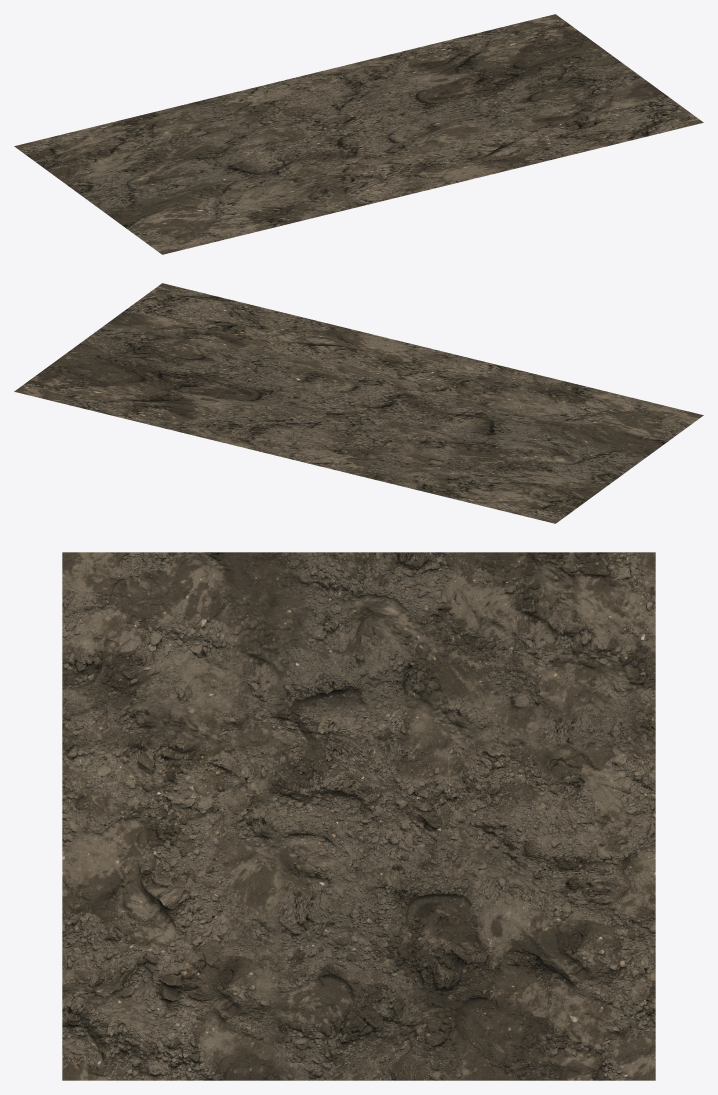
The model's file is Suelo_Zona3.glb.
3 renders of one model, top to bottom at view 1: azimuth 30°, elevation 25°; view 2: azimuth 150°, elevation 25°; view 3: azimuth 270°, elevation 25°, orthographic. The views are drawn at different scales.
Parts seen in each view (by area): view 1: Plano; view 2: Plano; view 3: Plano.
Boxes of the visible parts, box(x1,y1,x2,y2) form: Plano: box(14, 14, 703, 254); Plano: box(14, 283, 703, 523); Plano: box(62, 552, 655, 1080).
Bounding box in the file's own units: 80.25 × 0.7202 × 38.08.
Materials: 1 (1 with a texture image).
